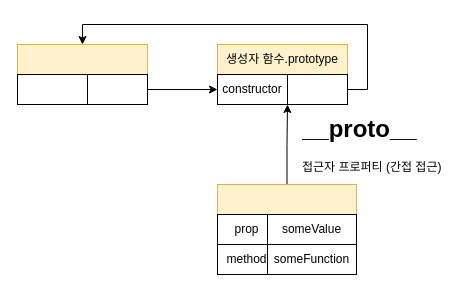
Image size: 475x292. Some labels were removed from this diagram. Each missing label, with the centre of its shape:
"prototype" goes at [52,89].
"객체" goes at [286,199].
"생성자 함수" goes at [82,59].
